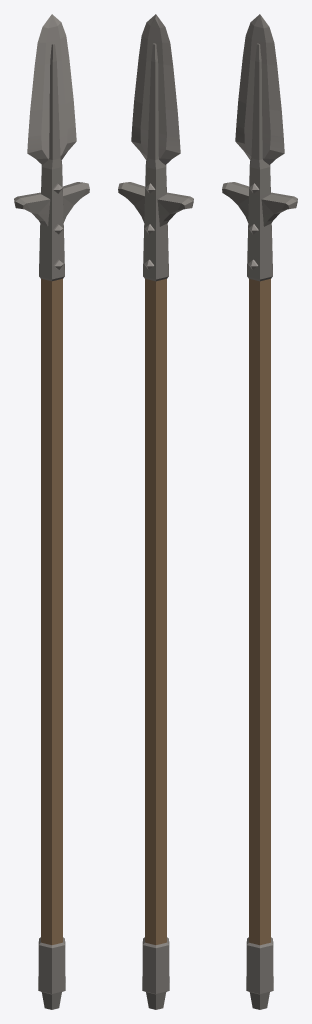
Rendered from SM_pwe_medieval_spear_04b.fbx.
3 views of the same model, side by side, from view 1: azimuth 30°, elevation 25°; view 2: azimuth 150°, elevation 25°; view 3: azimuth 330°, elevation 25° (orthographic).
Visible parts, largest first — view 1: SM_pwe_medieval_spear_04b; view 2: SM_pwe_medieval_spear_04b; view 3: SM_pwe_medieval_spear_04b.
Part boxes in pixels (x1,y1,x2,y2): SM_pwe_medieval_spear_04b: [14, 14, 89, 1009]; SM_pwe_medieval_spear_04b: [118, 14, 193, 1009]; SM_pwe_medieval_spear_04b: [222, 14, 297, 1009].
Bounding box in the file's own units: 14.79 × 191 × 6.15.
